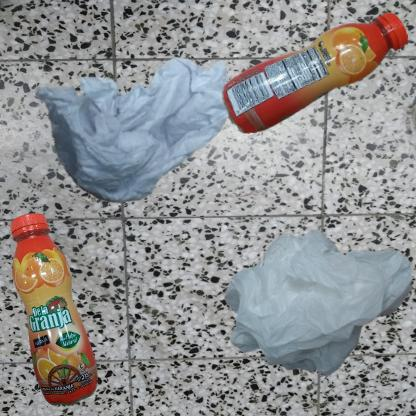bolsa: (213, 213, 416, 401)
botella: (213, 10, 416, 147), (10, 213, 98, 406)
papel: (10, 10, 259, 242)
